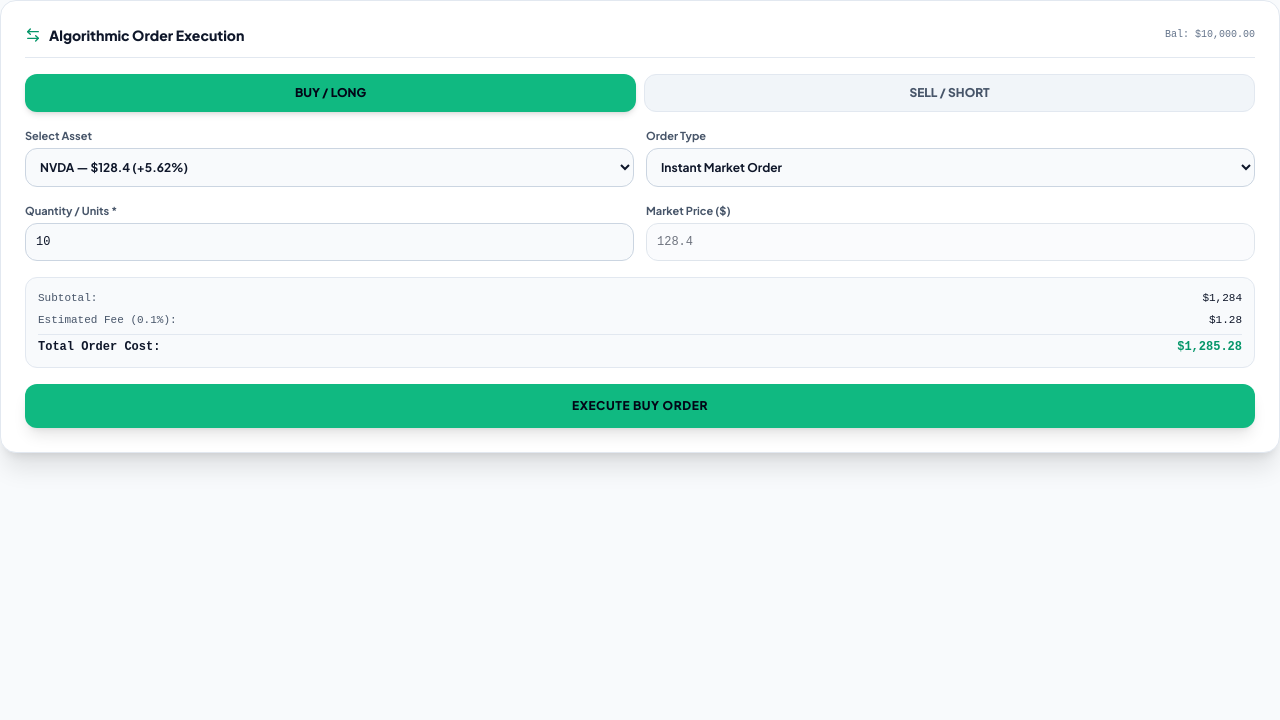
Test: Sprint 11 QA: TradeWidget React Testing Library DOM Tests › shows error banner when order exceeds risk limit
Replace the text in the number field with test id "quantity-input" with "500" at point(330, 242), box [25,223,634,261]
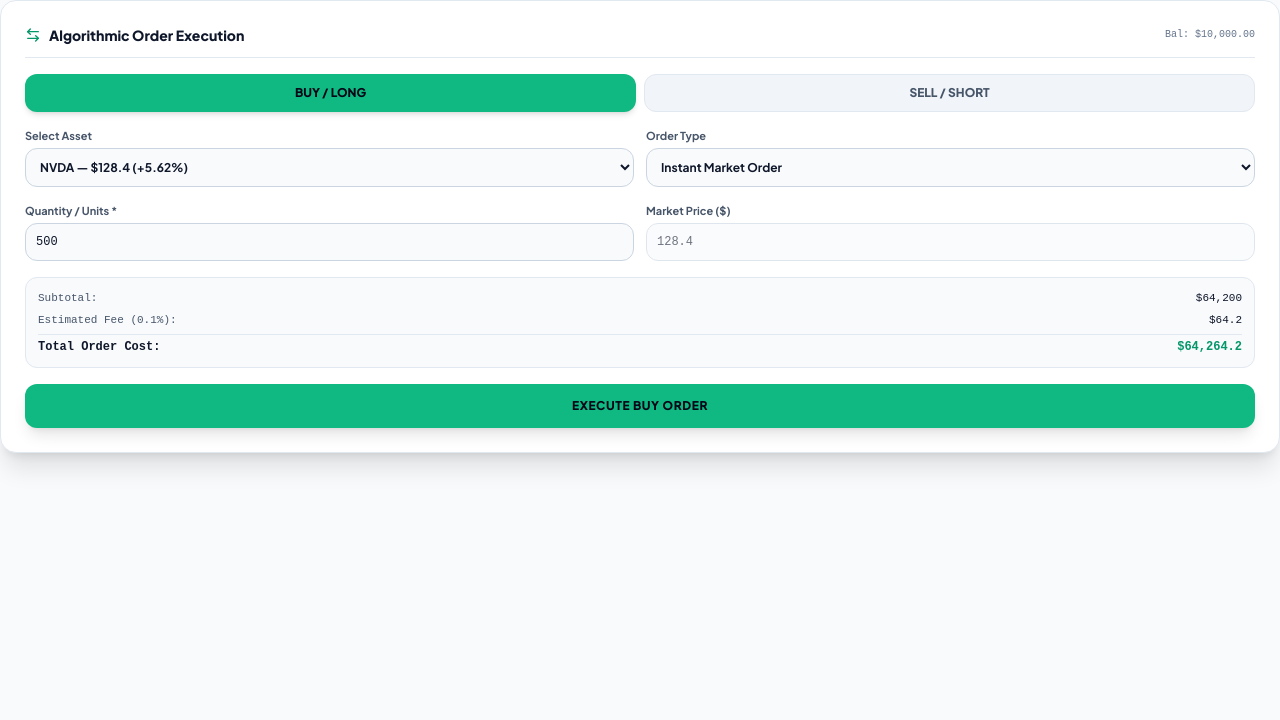
Click the button with test id "submit-order-button" at point(640, 406), box [25,384,1255,428]
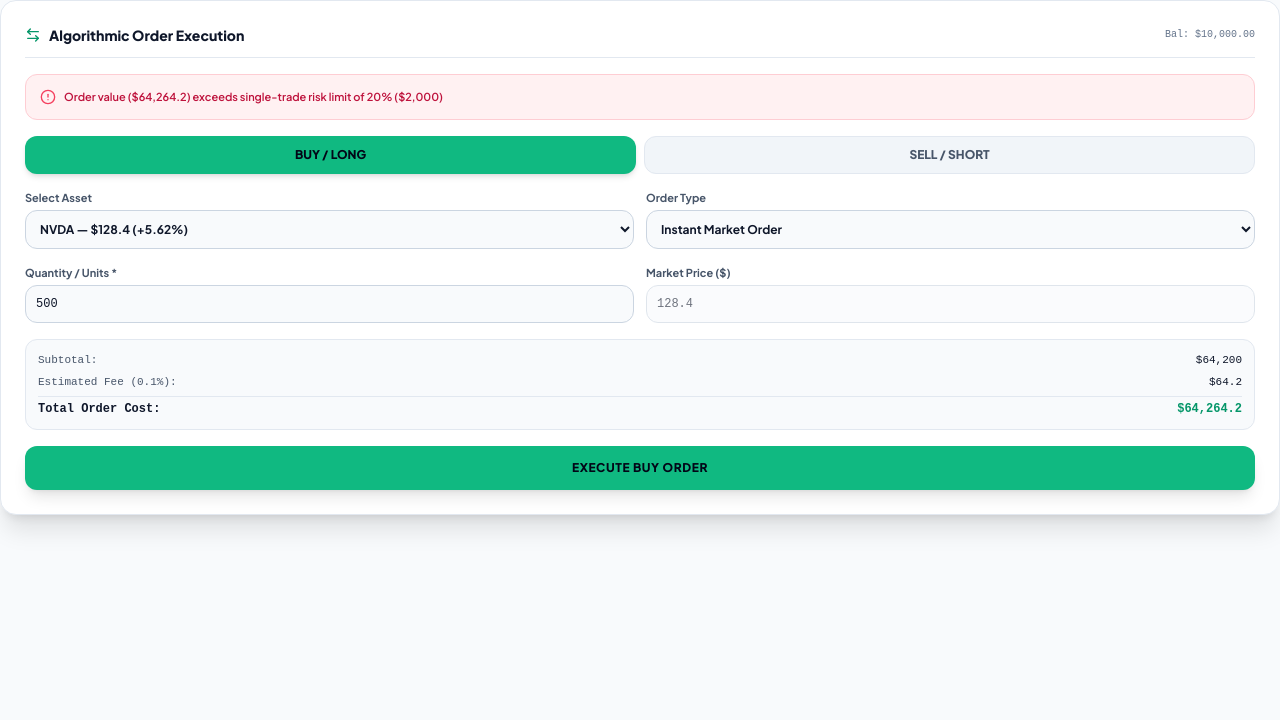
Expected: the element with test id "order-error-banner" is shown, [25,74,1255,120]
